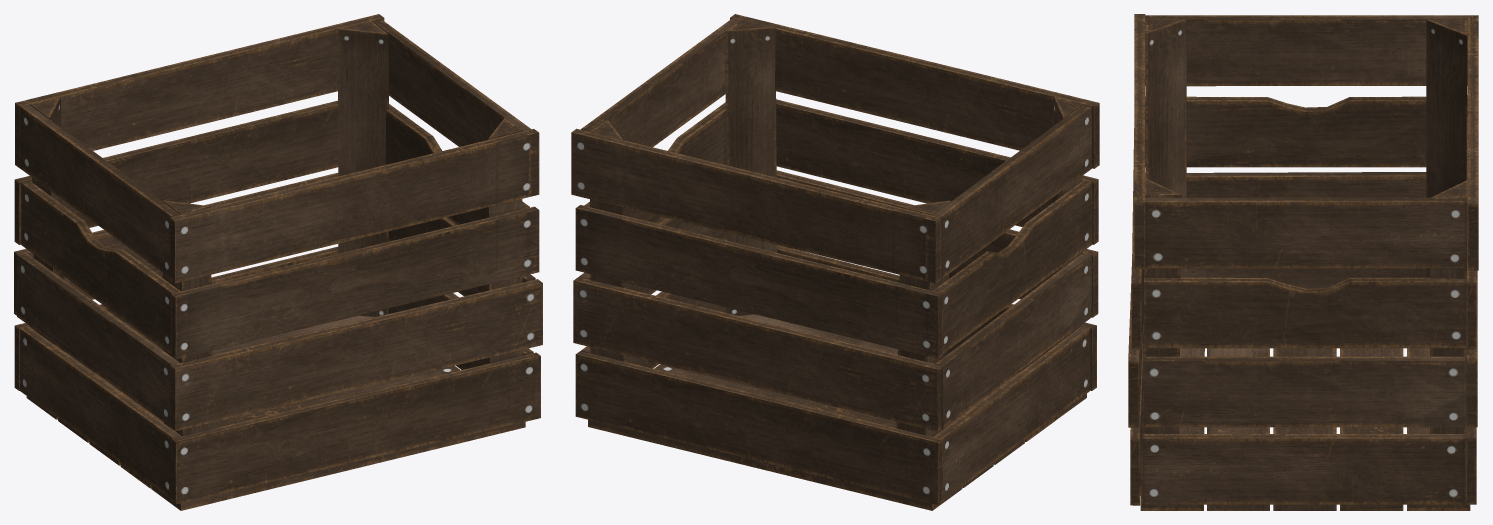
Rendered from wooden_crate_3.gltf.
3 views of the same model, side by side, from view 1: azimuth 30°, elevation 25°; view 2: azimuth 150°, elevation 25°; view 3: azimuth 270°, elevation 25° (orthographic). The views are drawn at different scales.
Visible parts, largest first — view 1: Box_01; view 2: Box_01; view 3: Box_01.
Part boxes in pixels (x1,y1,x2,y2): Box_01: (14,14,542,510); Box_01: (571,14,1099,510); Box_01: (1128,14,1478,510).
Bounding box in the file's own units: 0.487 × 0.3759 × 0.3791.
Materials: 1 (1 with a texture image).
